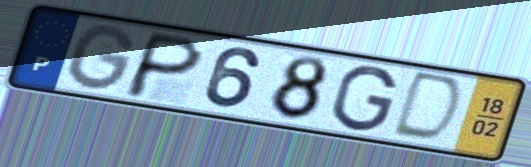6: (203, 45, 263, 111)
8: (264, 54, 329, 124)
D: (386, 69, 467, 146)
G: (65, 22, 139, 95), (328, 64, 400, 133)
P: (119, 29, 208, 101)
